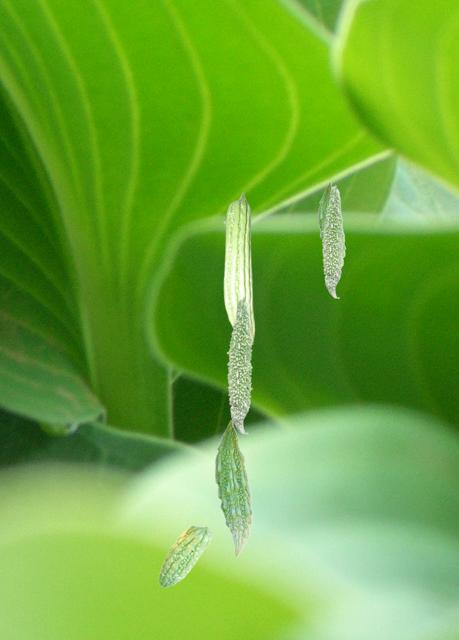ampalaya: (214, 420, 253, 556), (223, 192, 255, 345), (226, 296, 253, 434), (158, 524, 212, 587), (321, 184, 344, 298), (317, 181, 346, 266)
